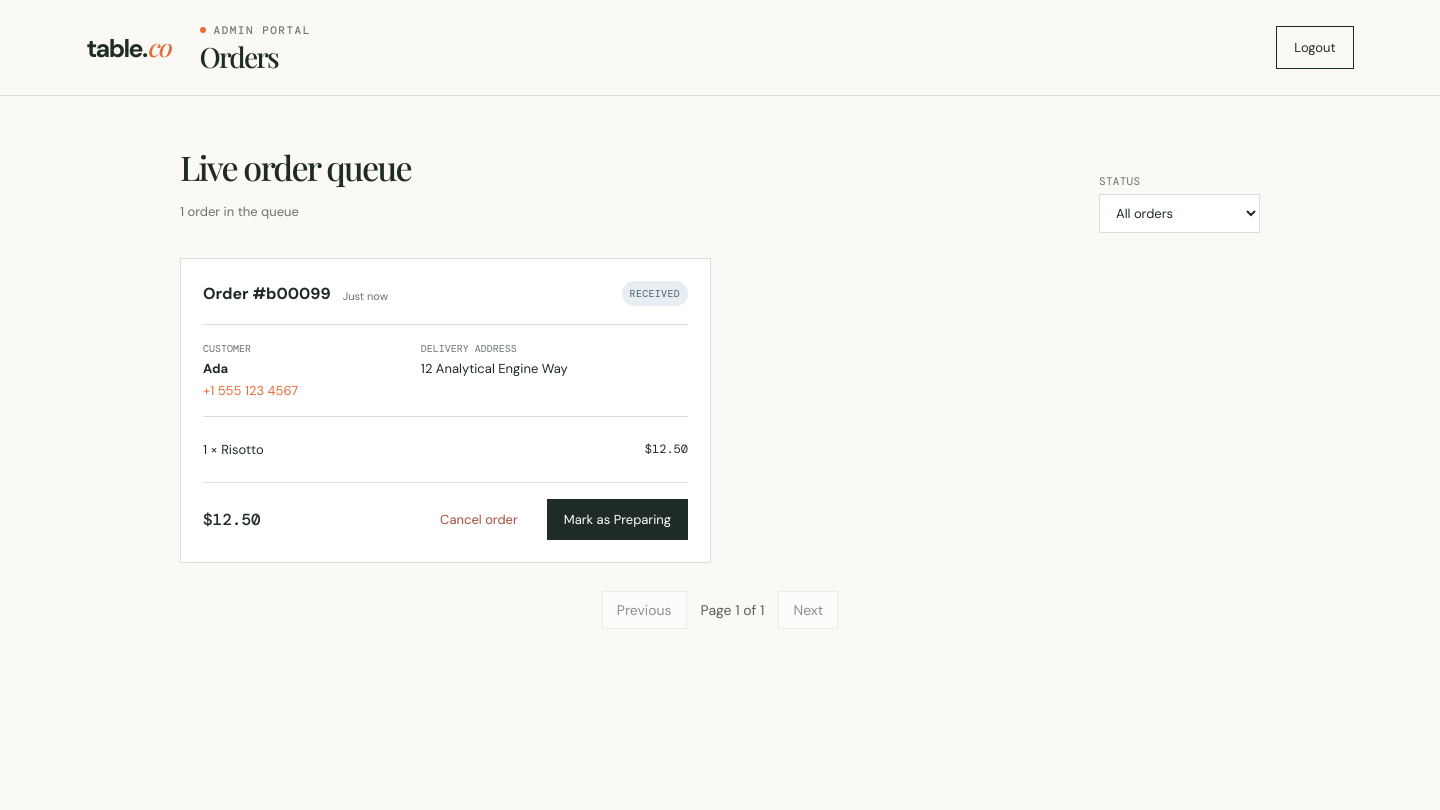
Test: admin orders › collects a cancellation reason in a confirmation dialog and updates the order immediately
The width and height of the screenshot is (1440, 810).
Expected: the text "Ada" is shown, [203,360,228,377]
Step 1. Click the button "Cancel order" → (479, 520), box [423,499,535,540]
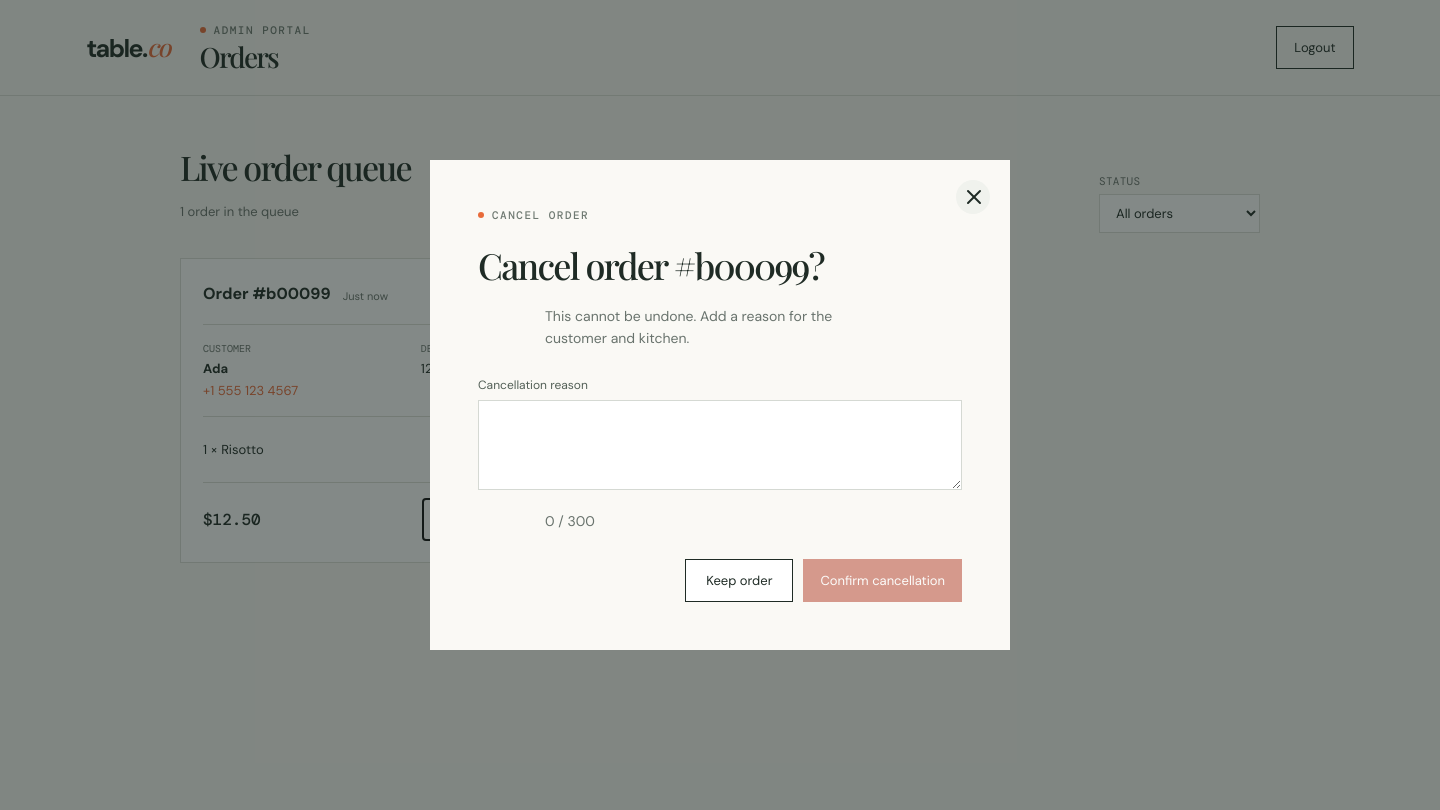
Now the dialog is shown, box [430,160,1010,650]
Step 2. Type "Customer changed plans" into the text box labelled "Cancellation reason" → (720, 445), box [478,400,962,490]
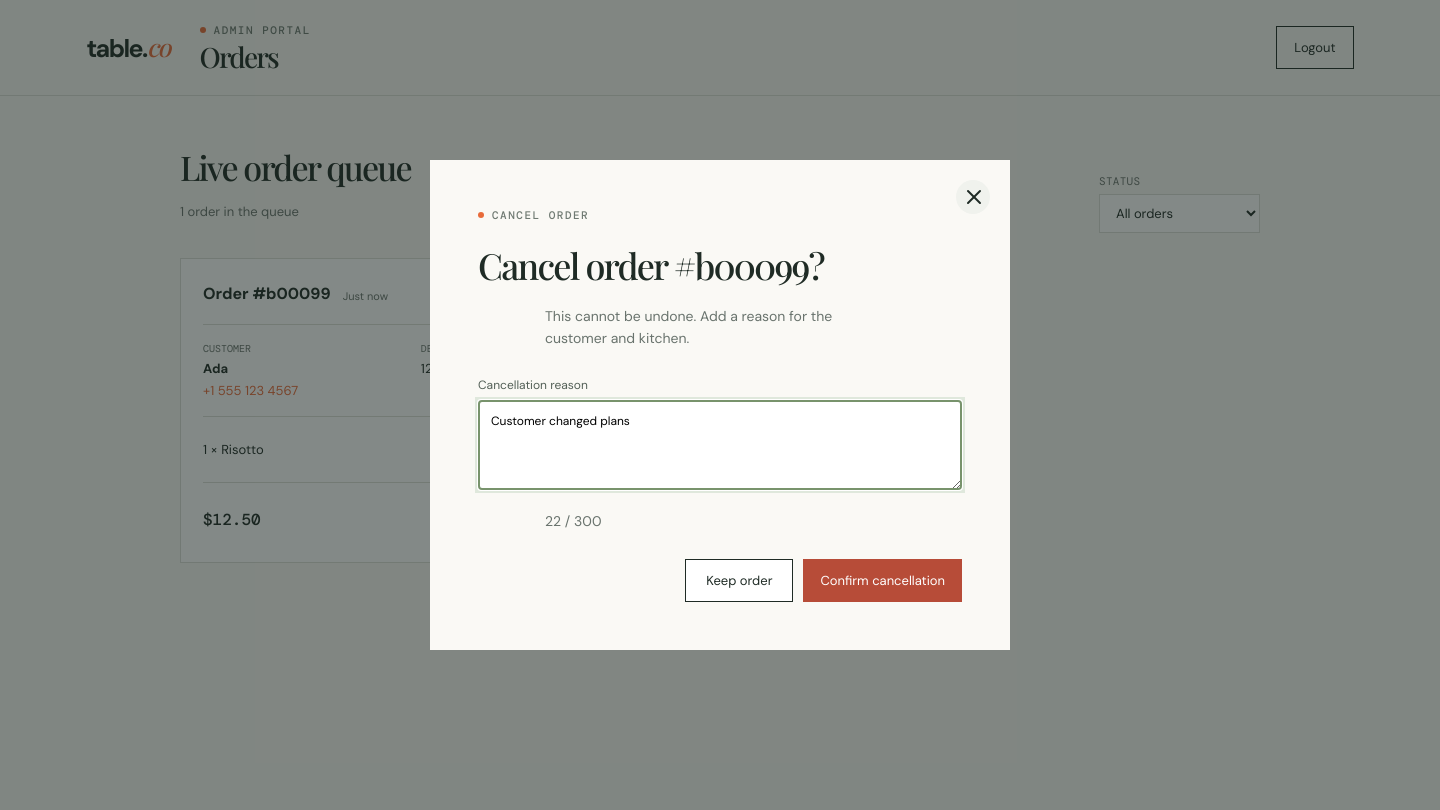
Step 3. Click the button "Confirm cancellation" → (883, 581), box [804,559,962,602]
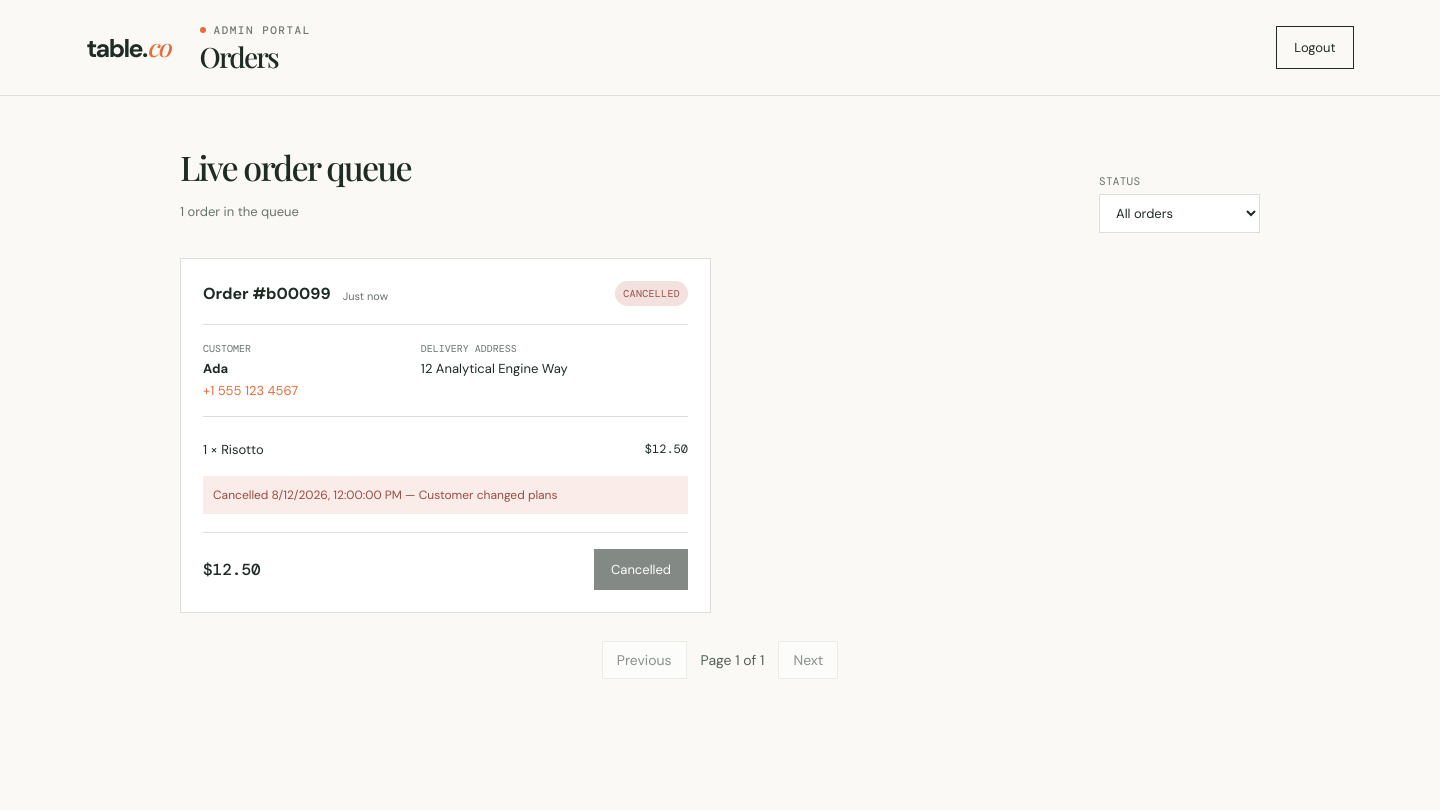
Now the text "CANCELLED" is shown, box [615,281,688,306]
Now the text "Cancelled 8/12/2026, 12:00:00 PM — Customer changed plans" is shown, box [203,476,688,514]
